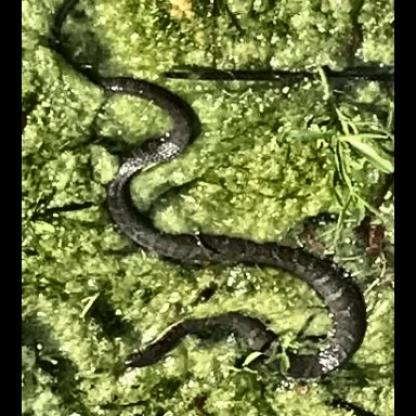Snake: (103, 74, 369, 383)
